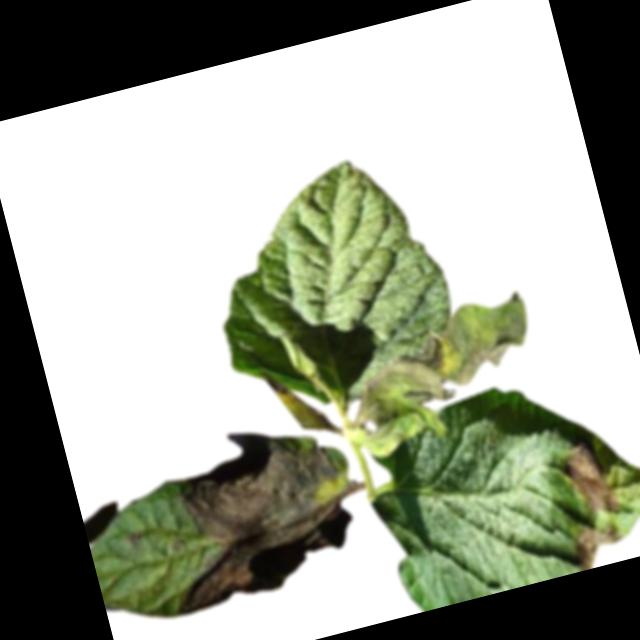Late_blight: (138, 408, 368, 615), (334, 289, 557, 462), (559, 433, 625, 523), (566, 516, 624, 572), (123, 526, 145, 548)
healthy: (189, 142, 469, 423)
